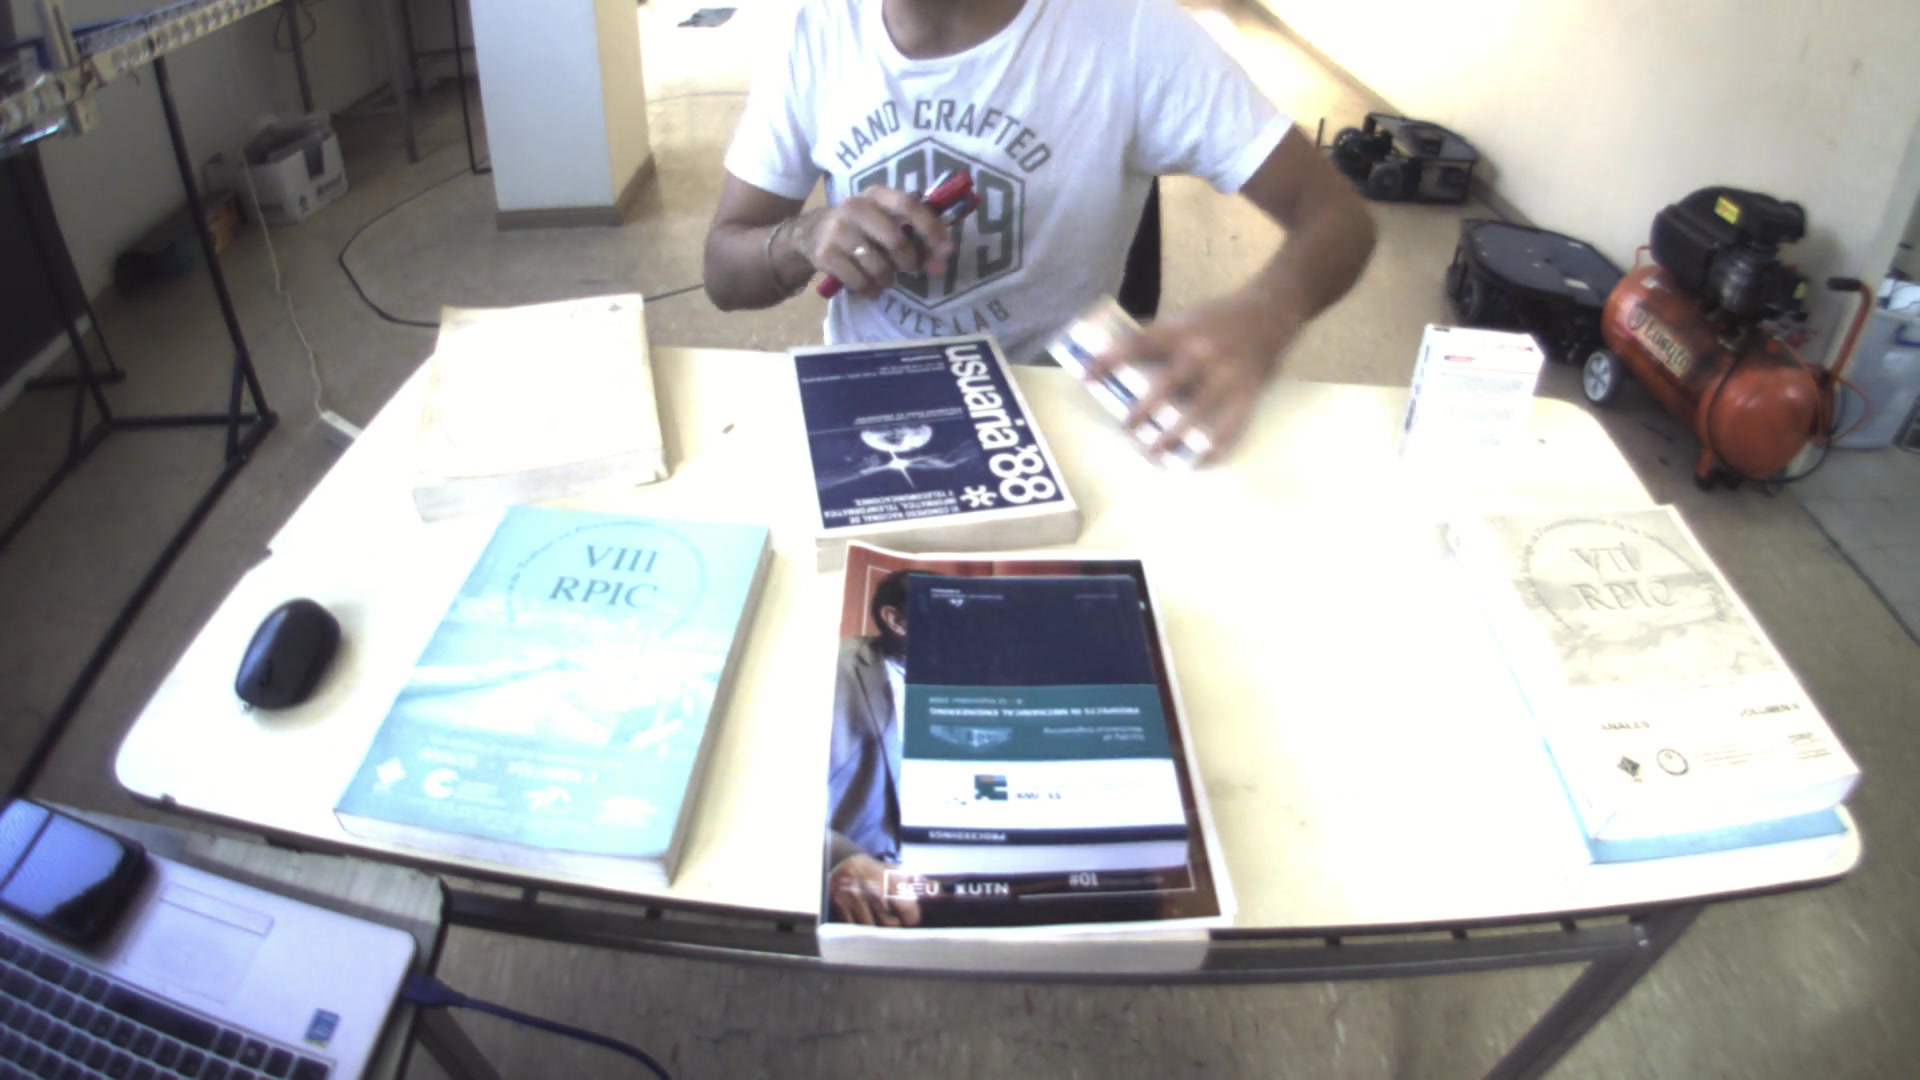hand: (1079, 273, 1313, 469), (778, 171, 965, 294)
